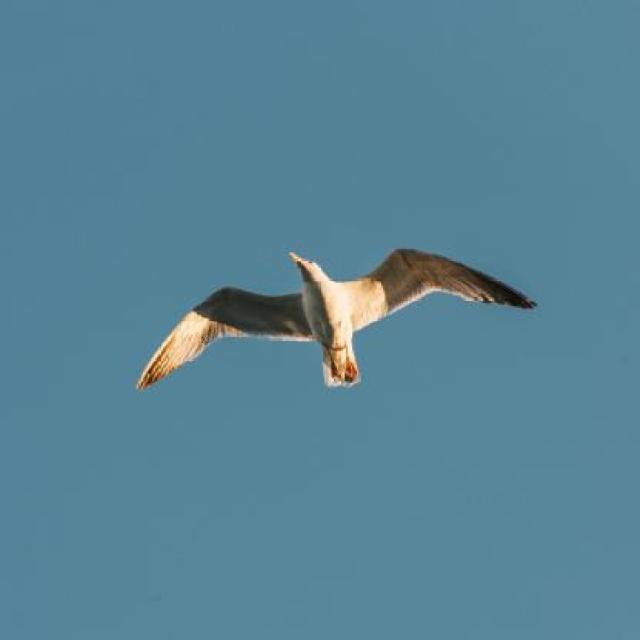bird: (134, 247, 540, 390)
